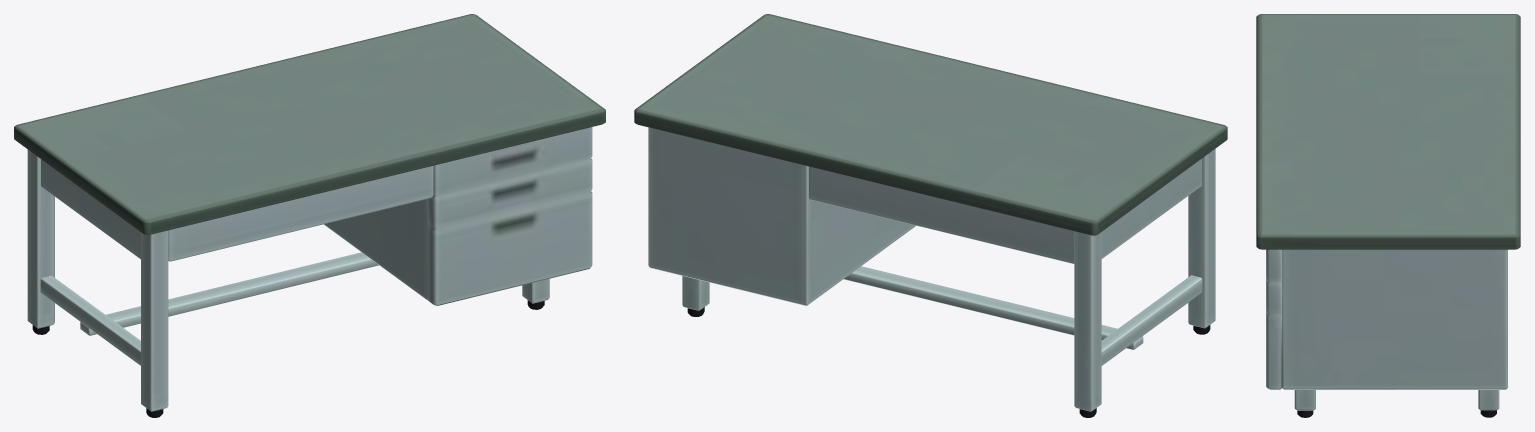
3 renders of one model, left to right at view 1: azimuth 30°, elevation 25°; view 2: azimuth 150°, elevation 25°; view 3: azimuth 270°, elevation 25°, orthographic.
Size of the model in its own units: 20 by 8.42 by 10.
Materials: 1 (1 with a texture image).
